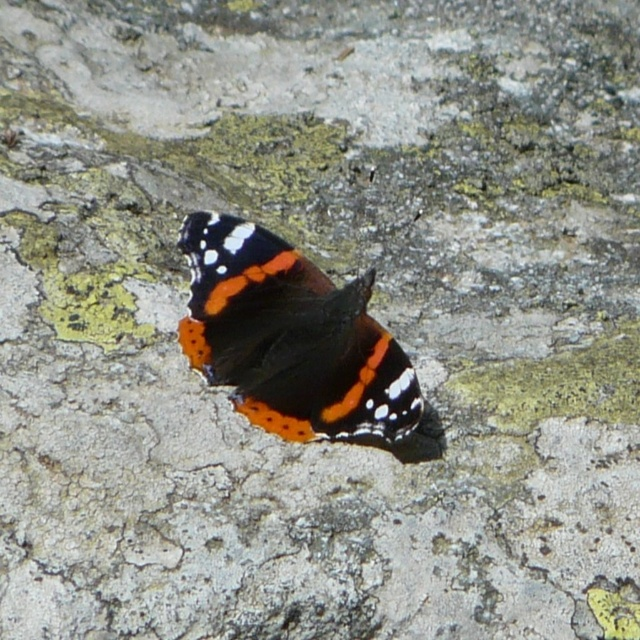Butterfly: (212, 285, 418, 458)
